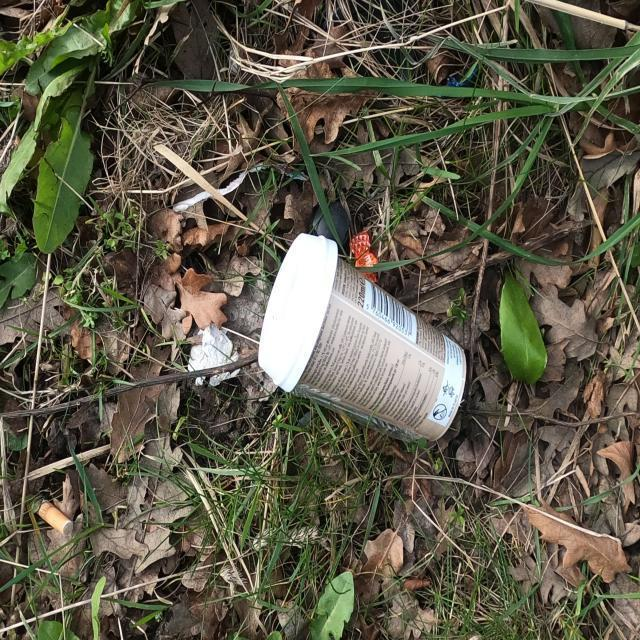Cup: (256, 232, 468, 444)
Plastic: (348, 230, 379, 284)
